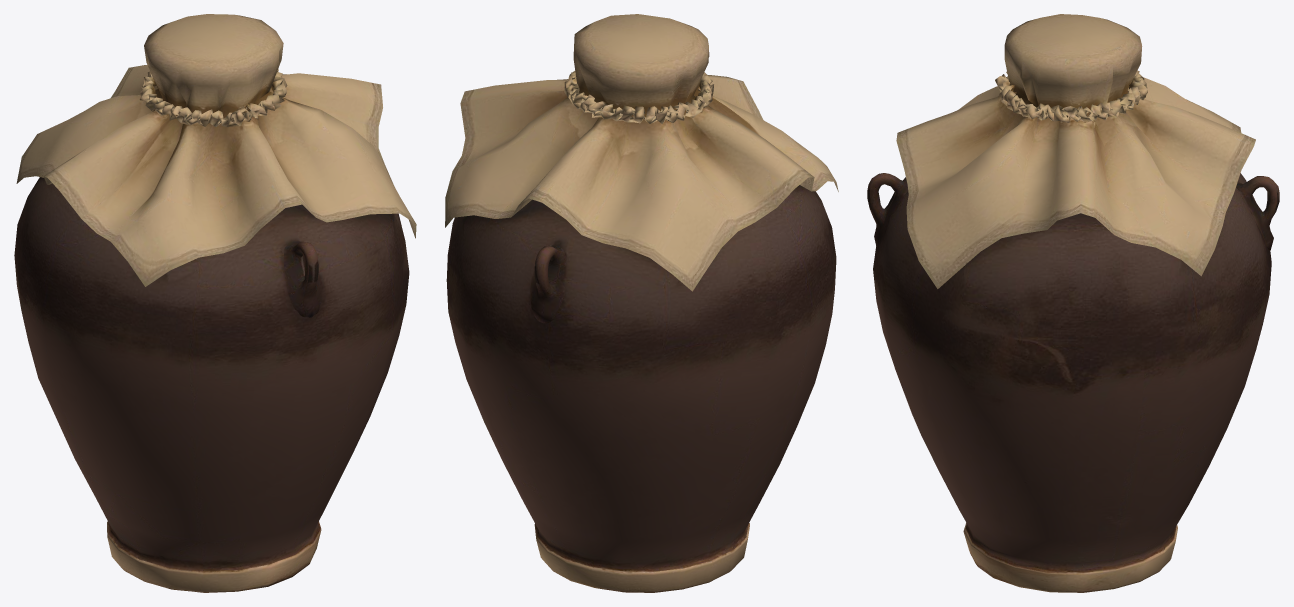
Rendered from wine.glb.
The picture shows the model from 3 angles, left to right: view 1: azimuth 30°, elevation 25°; view 2: azimuth 150°, elevation 25°; view 3: azimuth 270°, elevation 25°; orthographic projection.
Parts seen in each view (by area): view 1: tripo_node_b2507955-f9d0-4ec2-9827-b17ef75cc313; view 2: tripo_node_b2507955-f9d0-4ec2-9827-b17ef75cc313; view 3: tripo_node_b2507955-f9d0-4ec2-9827-b17ef75cc313.
Part boxes in pixels (<box>): tripo_node_b2507955-f9d0-4ec2-9827-b17ef75cc313: <box>14,14,416,592</box>; tripo_node_b2507955-f9d0-4ec2-9827-b17ef75cc313: <box>445,14,838,592</box>; tripo_node_b2507955-f9d0-4ec2-9827-b17ef75cc313: <box>867,14,1279,592</box>.
Bounding box in the file's own units: 0.6934 × 0.998 × 0.7207.
1 material, 1 textured.
